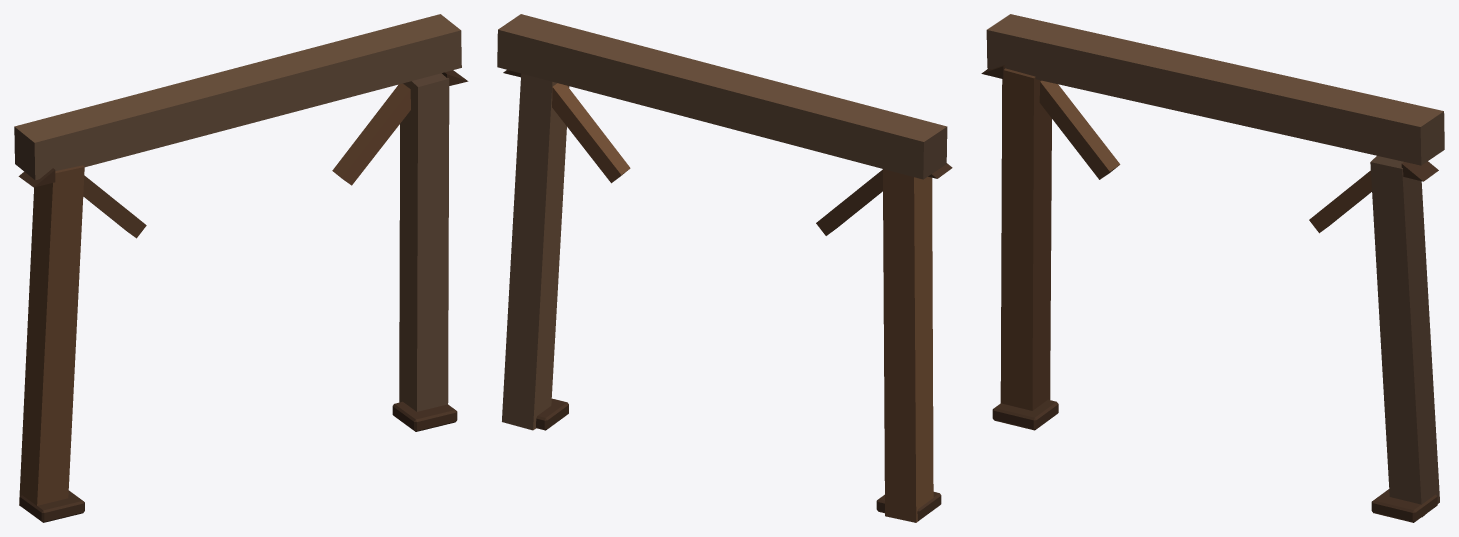
File: tl_env_tunnel_frame_v01.glb
3 renders of one model, left to right at view 1: azimuth 30°, elevation 25°; view 2: azimuth 150°, elevation 25°; view 3: azimuth 330°, elevation 25°, orthographic.
Visible parts, largest first — view 1: tl_env_tunnel_frame_v01; view 2: tl_env_tunnel_frame_v01; view 3: tl_env_tunnel_frame_v01.
Part boxes in pixels (x1=…): tl_env_tunnel_frame_v01: x1=14, y1=14, x2=468, y2=522; tl_env_tunnel_frame_v01: x1=497, y1=14, x2=952, y2=522; tl_env_tunnel_frame_v01: x1=981, y1=14, x2=1444, y2=522.
Bounding box in the file's own units: 3.62 × 3.11 × 0.4056.
